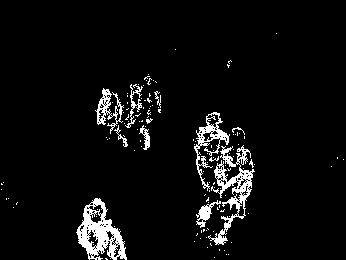person: (217, 125, 256, 243), (194, 110, 230, 226), (77, 195, 129, 260), (126, 71, 163, 154), (96, 84, 128, 148)
